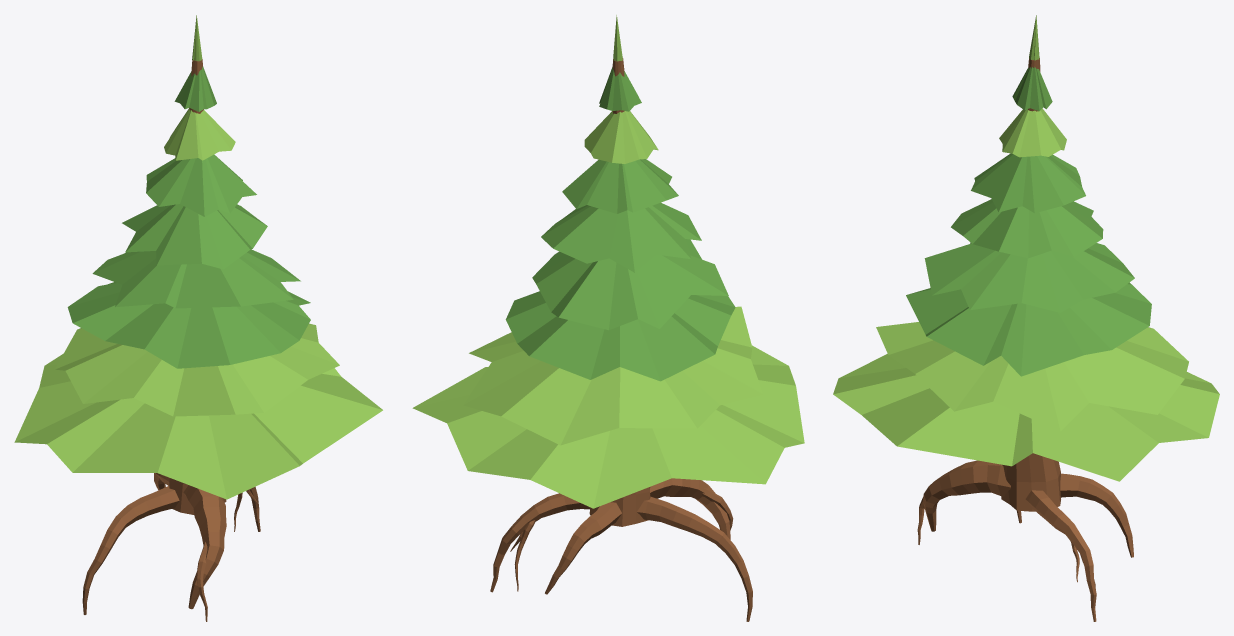
Rendered from pine2.fbx.
3 renders of one model, left to right at view 1: azimuth 30°, elevation 25°; view 2: azimuth 150°, elevation 25°; view 3: azimuth 270°, elevation 25°, orthographic. The views are drawn at different scales.
Visible parts, largest first — view 1: TreeLeaves, TreeWood; view 2: TreeLeaves, TreeWood; view 3: TreeLeaves, TreeWood.
Boxes of the visible parts, <box> form: TreeLeaves: <box>14,15,382,499</box>; TreeWood: <box>82,59,260,621</box>; TreeLeaves: <box>412,15,804,508</box>; TreeWood: <box>490,58,752,621</box>; TreeLeaves: <box>833,15,1219,481</box>; TreeWood: <box>917,58,1133,621</box>.
Bounding box in the file's own units: 7.59 × 12.82 × 7.93.
